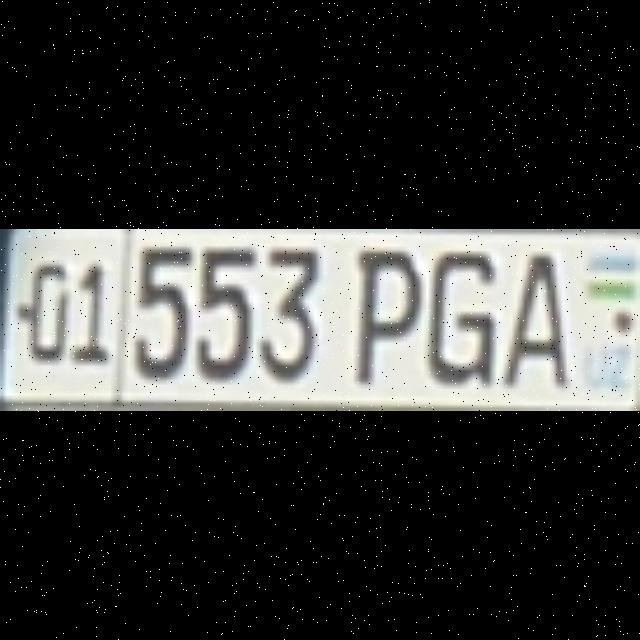0: (24, 257, 61, 355)
1: (70, 256, 108, 360)
3: (257, 244, 313, 378)
5: (192, 242, 252, 374), (131, 242, 187, 374)
A: (500, 248, 566, 382)
G: (426, 248, 490, 382)
P: (350, 244, 416, 378)
